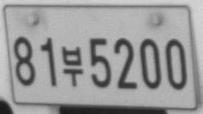0: (163, 37, 188, 91), (138, 37, 162, 89)
1: (37, 36, 60, 87)
2: (113, 36, 138, 89)
5: (88, 37, 112, 87)
8: (13, 35, 36, 87)
부: (60, 45, 83, 87)
